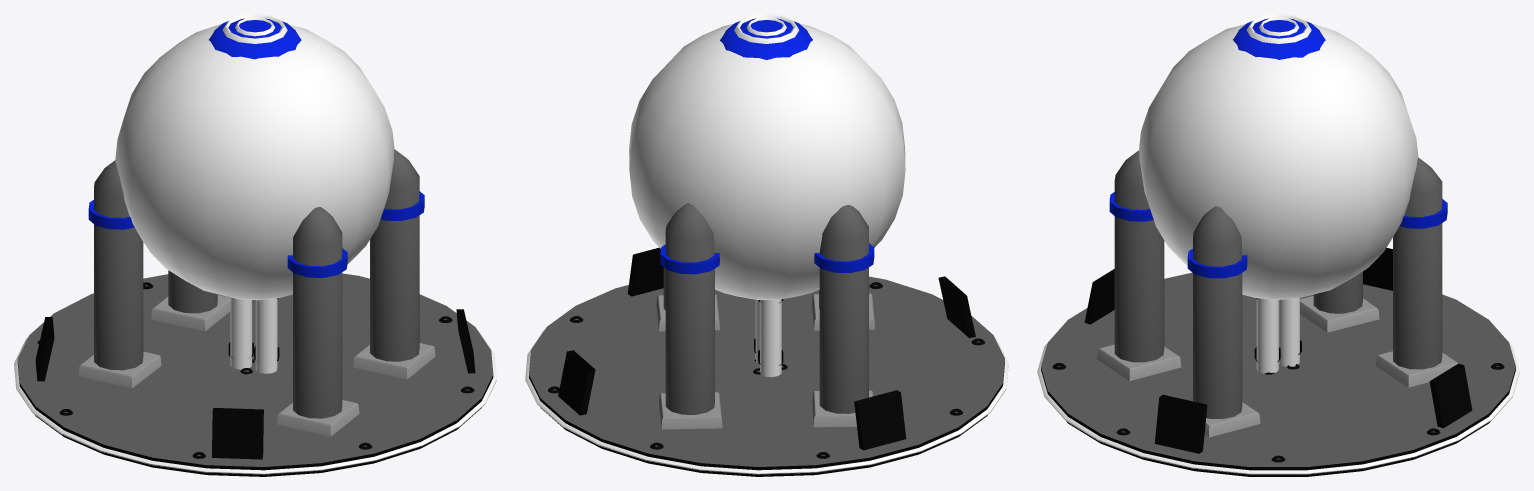
Rendered from Posto.fbx.
3 views of the same model, side by side, from view 1: azimuth 30°, elevation 25°; view 2: azimuth 150°, elevation 25°; view 3: azimuth 270°, elevation 25° (orthographic).
Parts seen in each view (by area): view 1: Tanque, PistaPouso, Pilares; view 2: Tanque, PistaPouso, Pilares; view 3: Tanque, PistaPouso, Pilares.
Boxes of the visible parts, bbox=[...] form: Tanque: bbox=[78, 14, 435, 436]; PistaPouso: bbox=[14, 273, 496, 476]; Pilares: bbox=[35, 309, 475, 459]; Tanque: bbox=[629, 14, 905, 429]; PistaPouso: bbox=[525, 276, 1008, 476]; Pilares: bbox=[558, 247, 975, 450]; Tanque: bbox=[1097, 14, 1457, 437]; PistaPouso: bbox=[1037, 272, 1519, 476]; Pilares: bbox=[1084, 248, 1472, 453].
Size of the model in its own units: 1015 by 974 by 1015.
